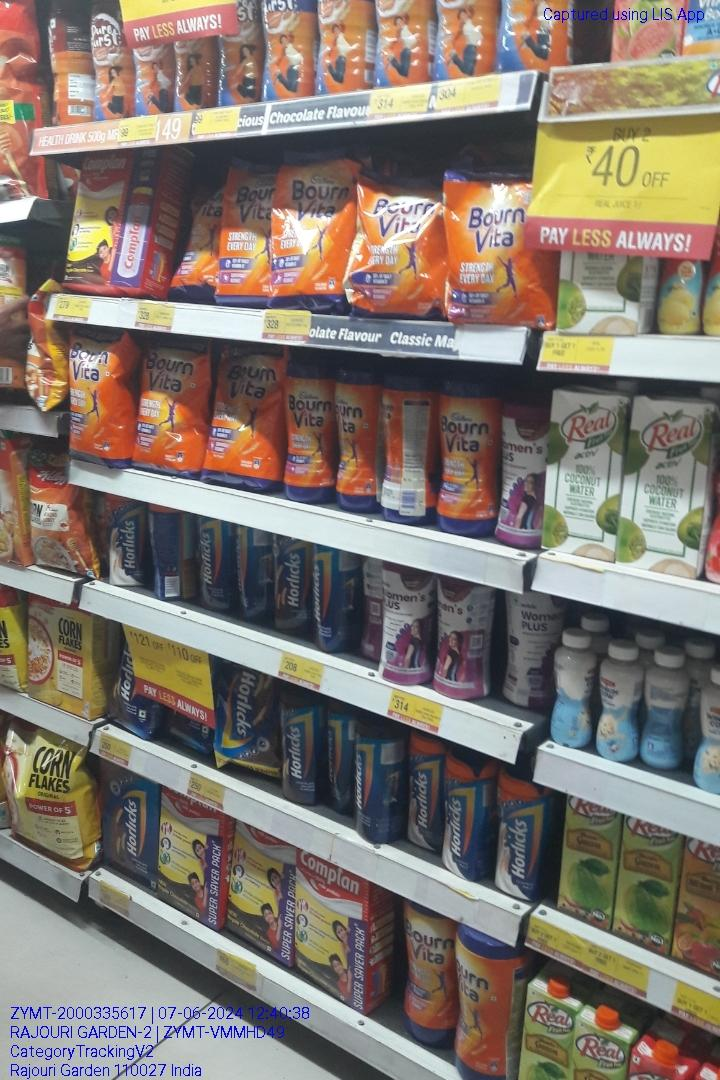HORLICK_CLASSIC_MALT_500_G_JAR: (498, 773, 541, 895), (445, 761, 482, 877), (408, 728, 439, 860)
